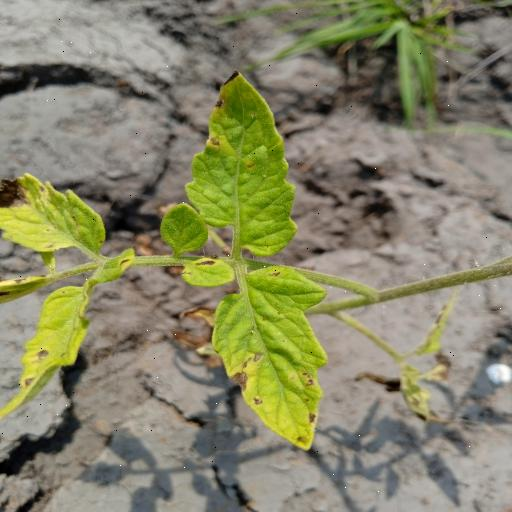Tomato_Brown_Spots: (206, 261, 348, 453), (181, 66, 301, 260), (0, 280, 90, 427), (0, 168, 110, 256)
